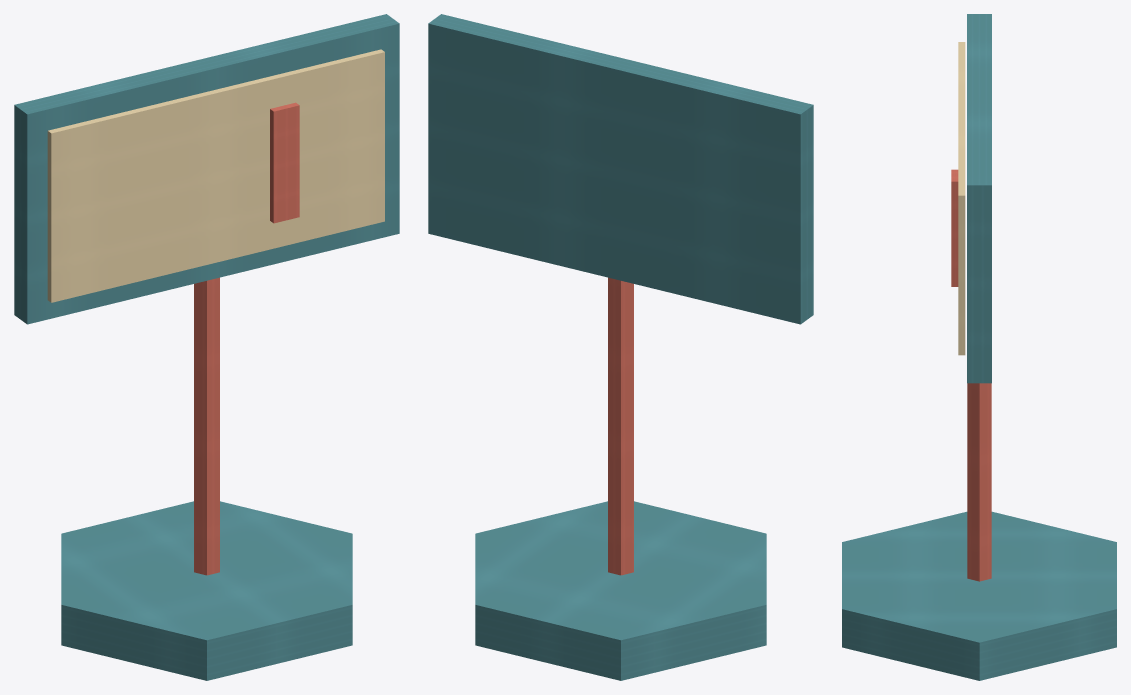
Rendered from atlas100-s072-a11.lod2.glb.
3 views of the same model, side by side, from view 1: azimuth 30°, elevation 25°; view 2: azimuth 150°, elevation 25°; view 3: azimuth 270°, elevation 25° (orthographic). The views are drawn at different scales.
Parts seen in each view (by area): view 1: atlas100-s072-a11:part-003, atlas100-s072-a11:part-000, atlas100-s072-a11:part-002, atlas100-s072-a11:part-001, atlas100-s072-a11:part-006; view 2: atlas100-s072-a11:part-002, atlas100-s072-a11:part-000, atlas100-s072-a11:part-001; view 3: atlas100-s072-a11:part-000, atlas100-s072-a11:part-002, atlas100-s072-a11:part-001, atlas100-s072-a11:part-003, atlas100-s072-a11:part-006.
Boxes of the visible parts, box(x1,y1,x2,y2) form: atlas100-s072-a11:part-003: box(47, 49, 384, 302); atlas100-s072-a11:part-000: box(61, 501, 352, 680); atlas100-s072-a11:part-002: box(14, 14, 399, 324); atlas100-s072-a11:part-001: box(194, 277, 219, 575); atlas100-s072-a11:part-006: box(270, 102, 299, 223); atlas100-s072-a11:part-002: box(428, 14, 813, 324); atlas100-s072-a11:part-000: box(475, 501, 766, 680); atlas100-s072-a11:part-001: box(608, 277, 633, 575); atlas100-s072-a11:part-000: box(842, 511, 1116, 680); atlas100-s072-a11:part-002: box(967, 14, 991, 383); atlas100-s072-a11:part-001: box(967, 383, 991, 581); atlas100-s072-a11:part-003: box(958, 42, 965, 355); atlas100-s072-a11:part-006: box(951, 169, 958, 286).
Size of the model in its own units: 1.15 by 1.61 by 0.7794.
3 materials, 3 textured.
